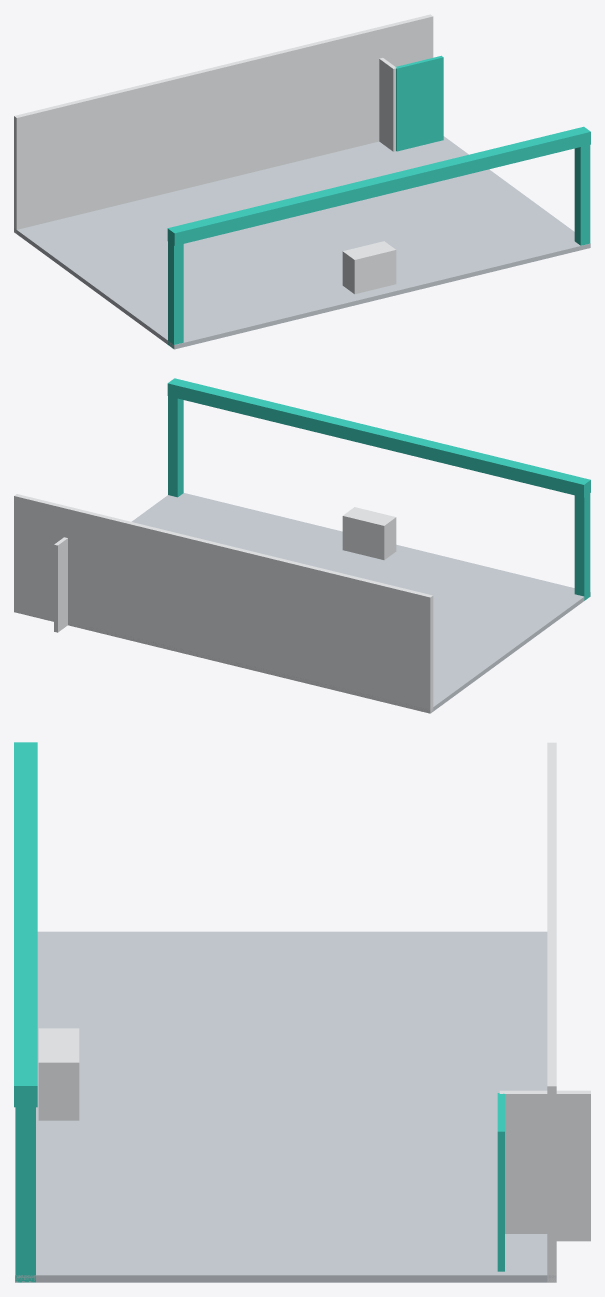
The picture shows the model from 3 angles, top to bottom: view 1: azimuth 30°, elevation 25°; view 2: azimuth 150°, elevation 25°; view 3: azimuth 270°, elevation 25°; orthographic projection. The views are drawn at different scales.
Visible parts, largest first — view 1: Exhibition Booth Concept; view 2: Exhibition Booth Concept; view 3: Exhibition Booth Concept.
Boxes of the visible parts, bbox=[...] form: Exhibition Booth Concept: bbox=[14, 14, 590, 349]; Exhibition Booth Concept: bbox=[14, 378, 590, 713]; Exhibition Booth Concept: bbox=[14, 742, 590, 1282].
Size of the model in its own units: 12 by 3.2 by 8.52.
